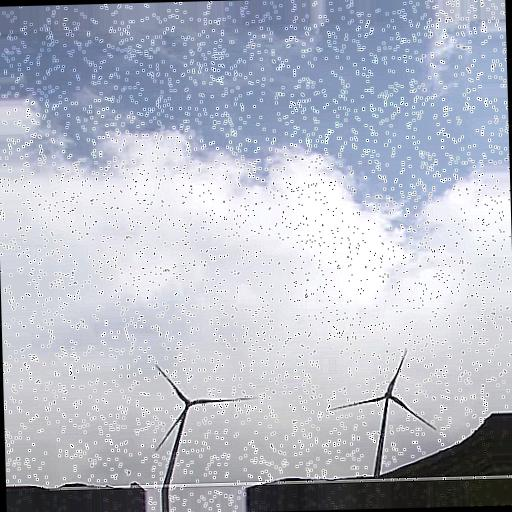wind turbine: (328, 347, 437, 473), (145, 365, 257, 481)
